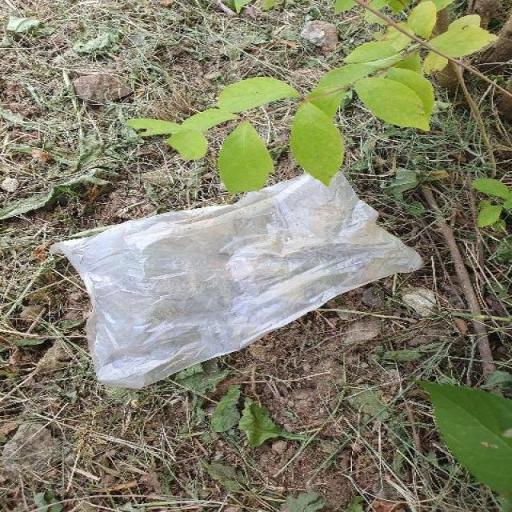plastic-bag: (44, 168, 428, 394)
